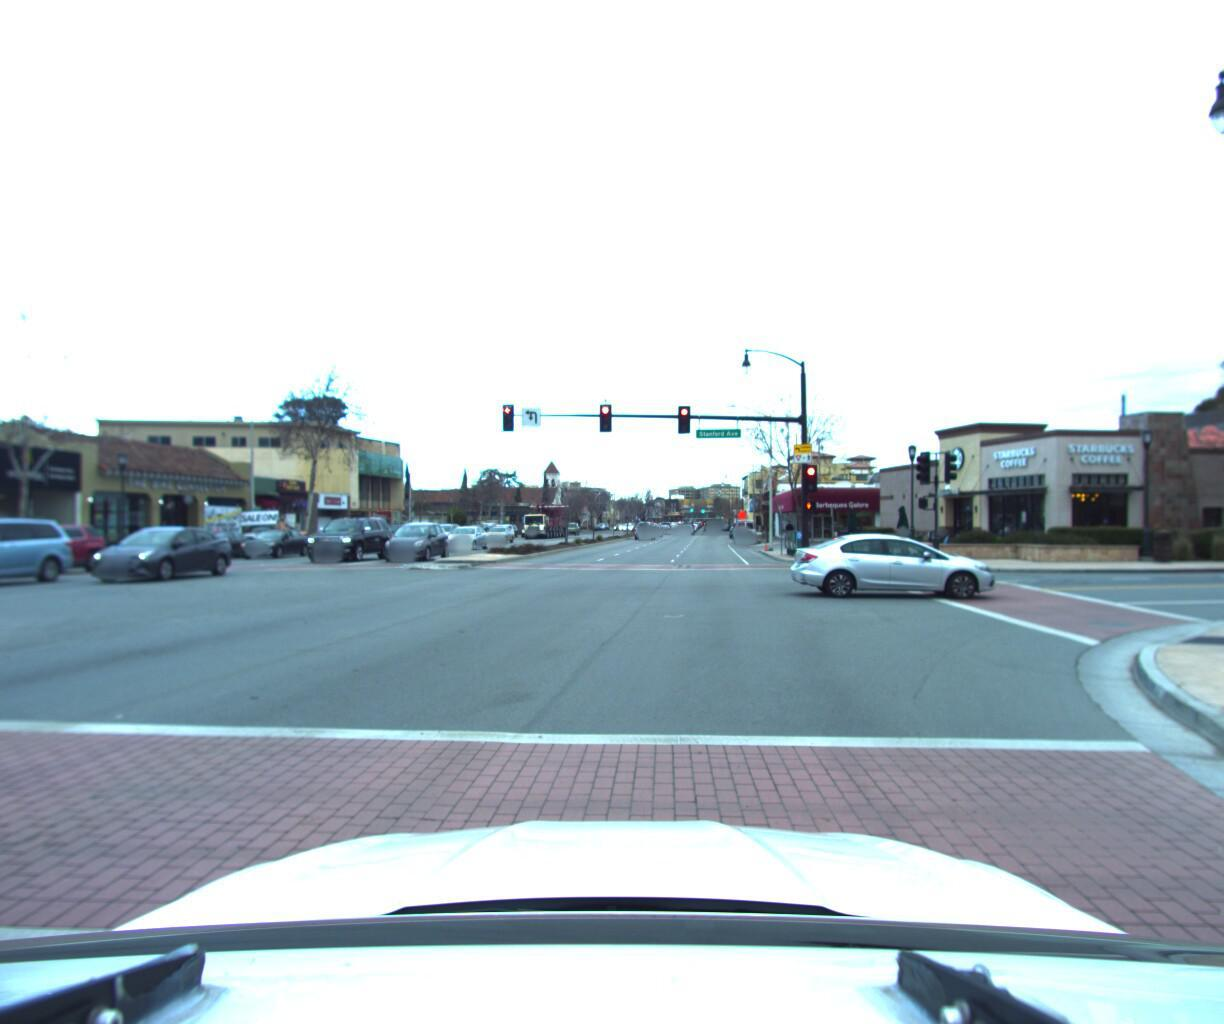car: (790, 527, 1003, 595), (74, 524, 239, 587), (0, 519, 79, 599), (0, 522, 115, 576), (306, 514, 396, 563), (222, 524, 313, 559), (234, 522, 317, 558), (381, 520, 455, 560), (369, 520, 427, 552), (440, 524, 492, 549), (483, 524, 521, 542), (732, 515, 756, 542), (635, 514, 655, 532)
